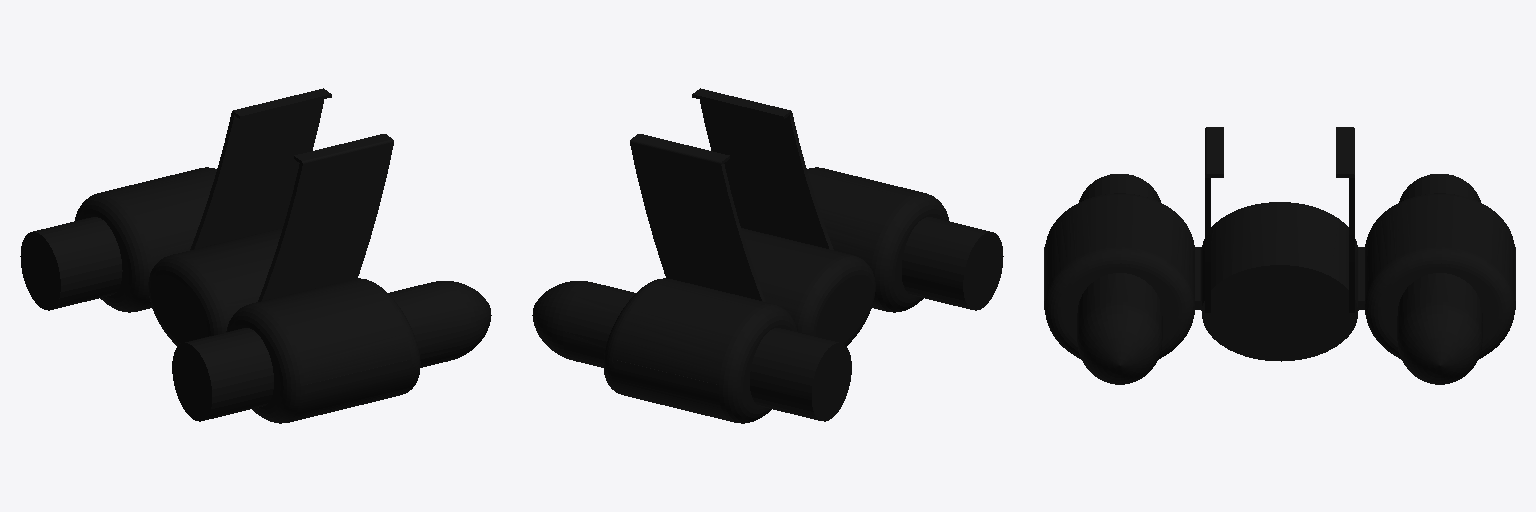
The robot description file, URDF, robot "trevor":
<?xml version="1.0"?>
<robot name="trevor">

  <link name="ins">
  </link>
  <joint name="ins_to_base" type="fixed">
    <parent link="ins"/>
    <child link="base_link"/>
    <origin xyz="0 0 0"/>
  </joint>

  <link name="base_link">

  </link>

  <link name="frame">
      <visual>
          <geometry>
            <mesh filename="package://trevor_urdf/meshes/full_usv.dae"/>
          </geometry>
          <origin rpy="0 0 1.57075" xyz="0.3 -0.02 -0.01"/>
      </visual>
  </link>

  <joint name="box_to_frame" type="fixed">
    <parent link="base_link"/>
    <child link="frame"/>
    <origin xyz="0 0 0"/>
  </joint>

  <link name="thrusters">
      <visual>
          <geometry>
            <mesh filename="package://trevor_urdf/meshes/thruster.dae"/>
          </geometry>
          <origin rpy="0 0 1.57075" xyz="0.02 0.063 -0.586"/>
      </visual>
  </link>

  <joint name="frame_to_thrusters" type="fixed">
    <parent link="frame"/>
    <child link="thrusters"/>
    <origin xyz="0 0 0"/>
  </joint>
</robot>

--- Facts derived from the render (not from the file) ---
Views: 3 orthographic renders of the robot side by side, from view 1: azimuth 30°, elevation 25°; view 2: azimuth 150°, elevation 25°; view 3: azimuth 270°, elevation 25°.
Model trevor with 4 links and 3 joints (3 fixed), rooted at ins, posed every joint at zero.
Links seen in each view (by area): view 1: thrusters; view 2: thrusters; view 3: thrusters.
Link boxes in pixels (left/top/right/bottom): thrusters: left=20, top=88, right=491, bottom=423; thrusters: left=532, top=88, right=1003, bottom=423; thrusters: left=1044, top=127, right=1515, bottom=384.
Size in the robot's own frame: 0.3683 by 0.4773 by 0.2451 metres.
Meshes: 2 distinct files referenced, 1 mesh visuals loaded (1 Collada DAE); not drawn: 1 (reference not matched to a file when rendering).
